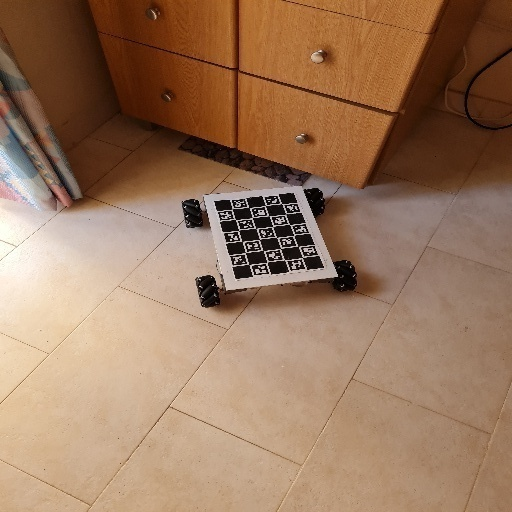Omniwheel: (182, 184, 359, 310)
